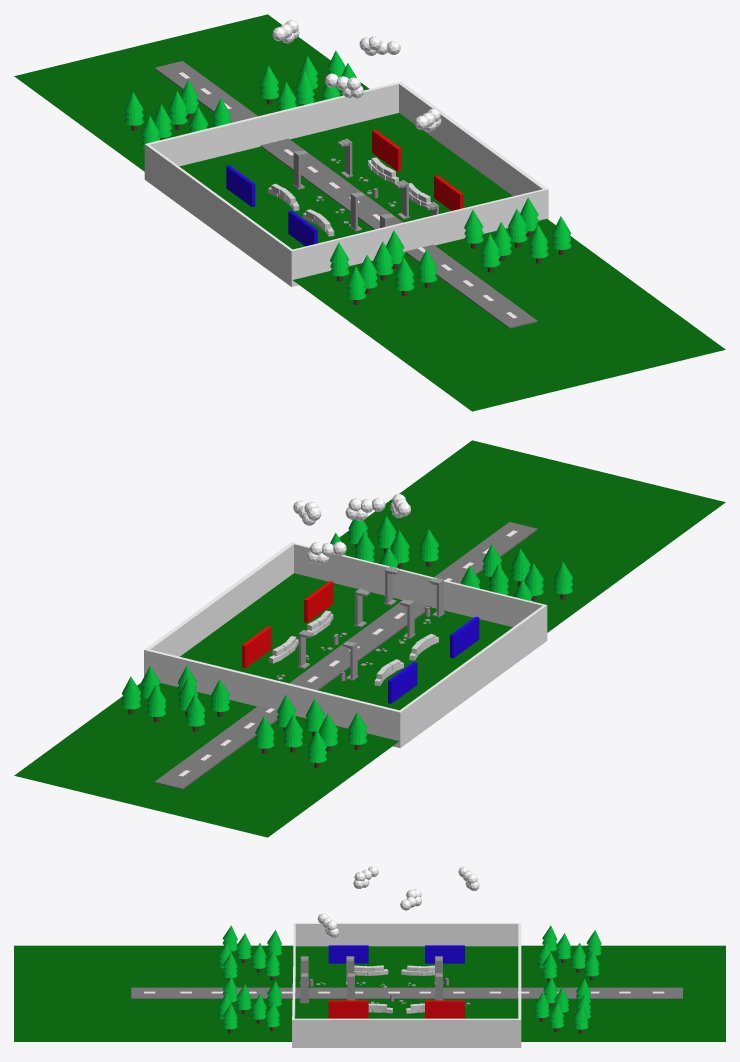
File: map.glb
3 views of the same model, one above another, from view 1: azimuth 30°, elevation 25°; view 2: azimuth 150°, elevation 25°; view 3: azimuth 270°, elevation 25° (orthographic). The views are drawn at different scales.
Visible parts, largest first — view 1: Plane.001, Cube.026, Cube, Cube.063, Cube.061, Cube.062, Cube.060; view 2: Plane.001, Cube.026, Cube, Cube.063, Cube.061, Cube.062, Cube.060; view 3: Plane.001, Cube.026, Cube, Cube.062, Cube.063, Cube.060, Cube.061.
Boxes of the visible parts, <box> form: Plane.001: <box>14,14,725,411</box>; Cube.026: <box>144,81,548,286</box>; Cube: <box>154,61,537,328</box>; Cube.063: <box>372,129,401,171</box>; Cube.061: <box>226,165,255,206</box>; Cube.062: <box>434,175,463,210</box>; Cube.060: <box>288,210,317,246</box>; Plane.001: <box>14,440,725,837</box>; Cube.026: <box>144,542,547,748</box>; Cube: <box>154,522,537,789</box>; Cube.063: <box>242,626,271,668</box>; Cube.061: <box>388,662,417,703</box>; Cube.062: <box>304,581,333,622</box>; Cube.060: <box>450,616,479,658</box>; Plane.001: <box>14,945,725,1041</box>; Cube.026: <box>292,923,521,1047</box>; Cube: <box>131,987,682,998</box>; Cube.062: <box>328,1000,368,1018</box>; Cube.063: <box>425,1000,464,1018</box>; Cube.060: <box>328,945,368,963</box>; Cube.061: <box>425,945,464,963</box>.
Bounding box in the file's own units: 4041 × 2341 × 12508.
